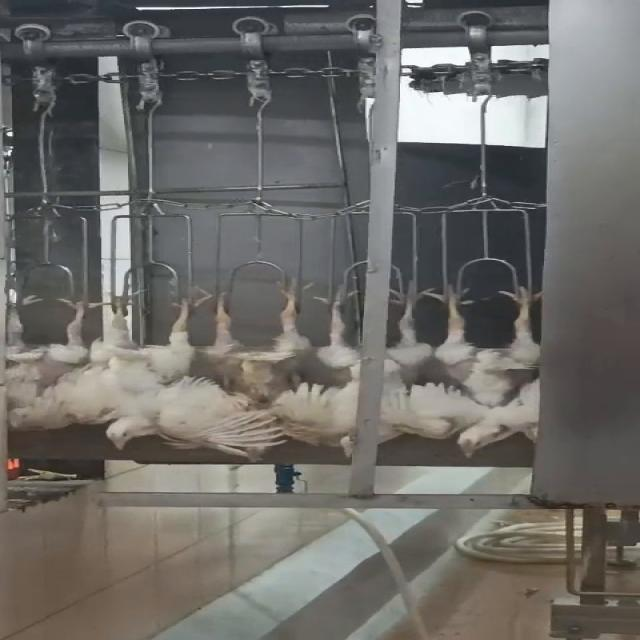chicken: (87, 285, 295, 457), (425, 268, 560, 456), (290, 276, 424, 460), (0, 288, 112, 434), (201, 281, 315, 410)
